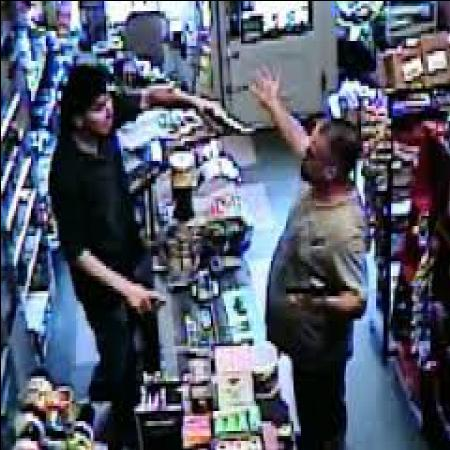Pistol: (206, 98, 253, 140)
